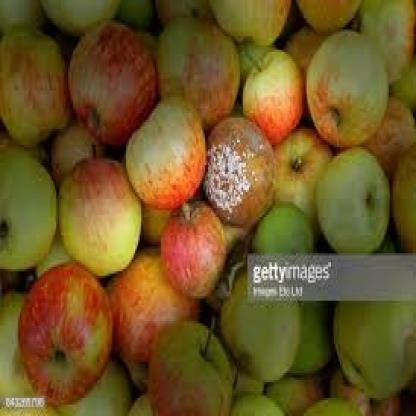apple: (66, 25, 166, 133), (17, 269, 112, 380), (58, 156, 141, 269), (307, 154, 396, 258), (112, 258, 200, 355), (311, 32, 387, 144), (337, 280, 410, 396), (146, 321, 241, 407), (126, 93, 200, 199), (156, 210, 232, 301), (224, 276, 298, 368), (4, 32, 68, 136), (176, 23, 245, 113), (244, 47, 310, 138)
damaged_apple: (200, 111, 274, 228)
